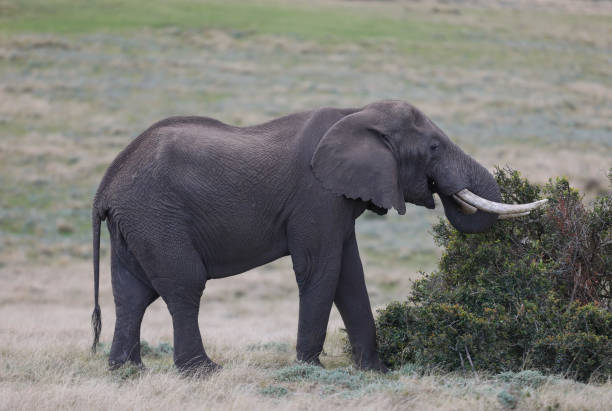africanelephant: (313, 97, 548, 234)
